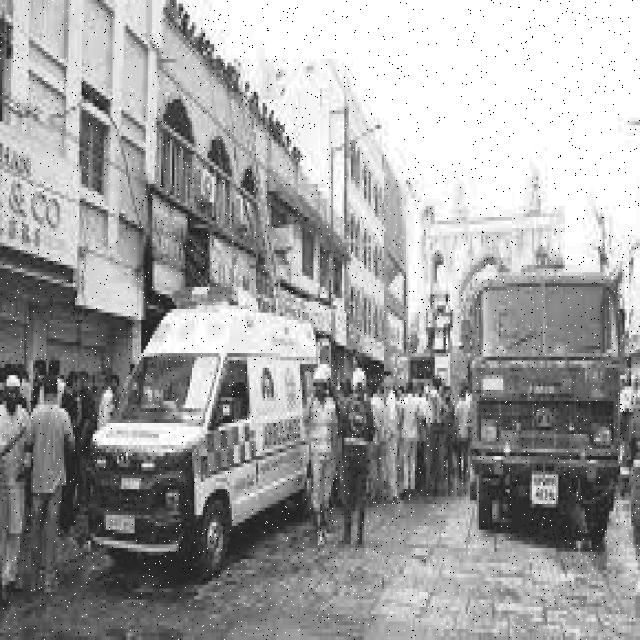Ambulance: (88, 272, 307, 574)
